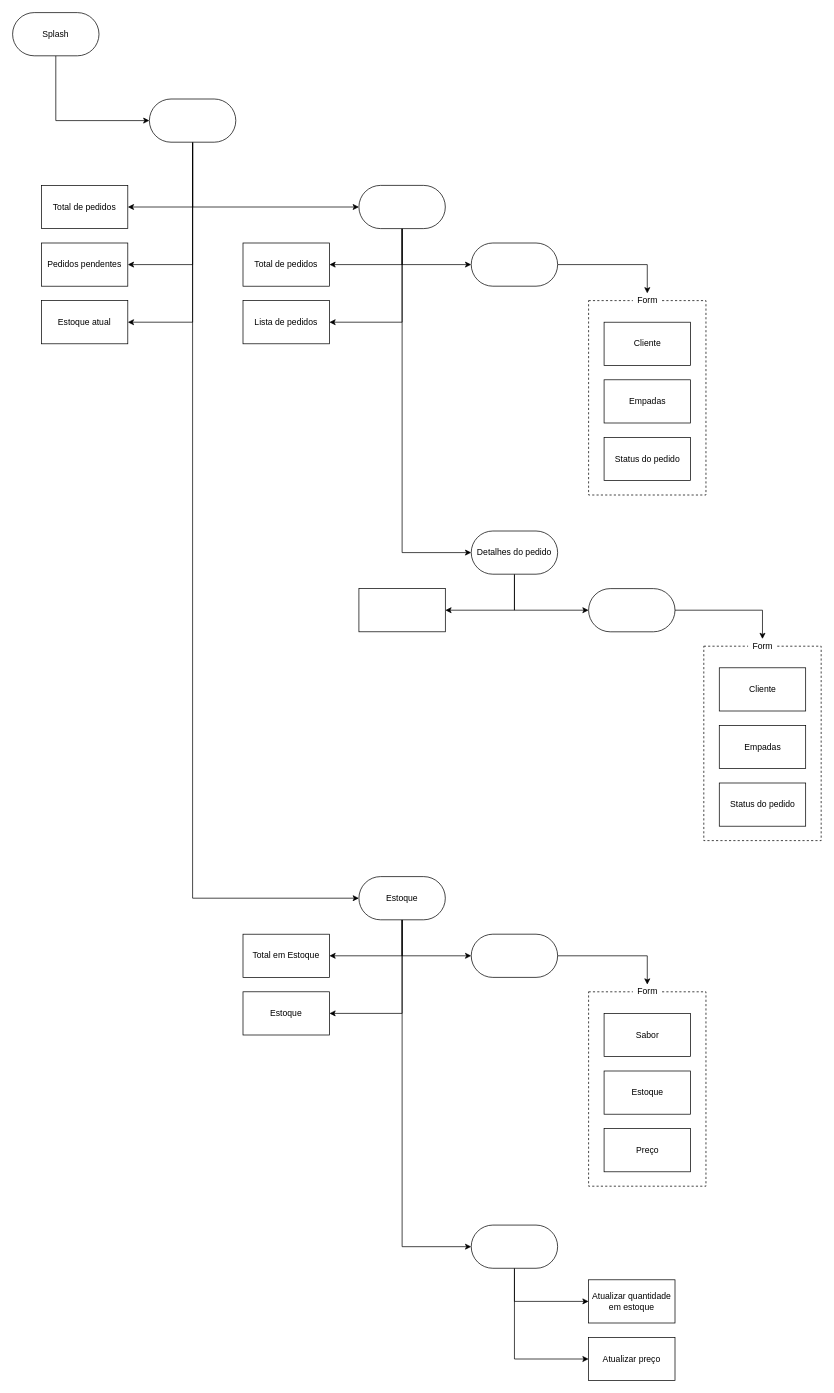
This 834x1393 diagram has some shape labels left out. Here are the shapes that lost their labels. From the top down, the box of each, then its label:
(149, 98, 236, 142): Home
(358, 185, 445, 229): Pedidos
(471, 242, 558, 286): Novo pedido
(358, 588, 445, 632): Apagar pedido
(588, 588, 675, 632): Editar pedido
(471, 933, 558, 977): Nova empada
(471, 1224, 558, 1268): Atualizar estoque
